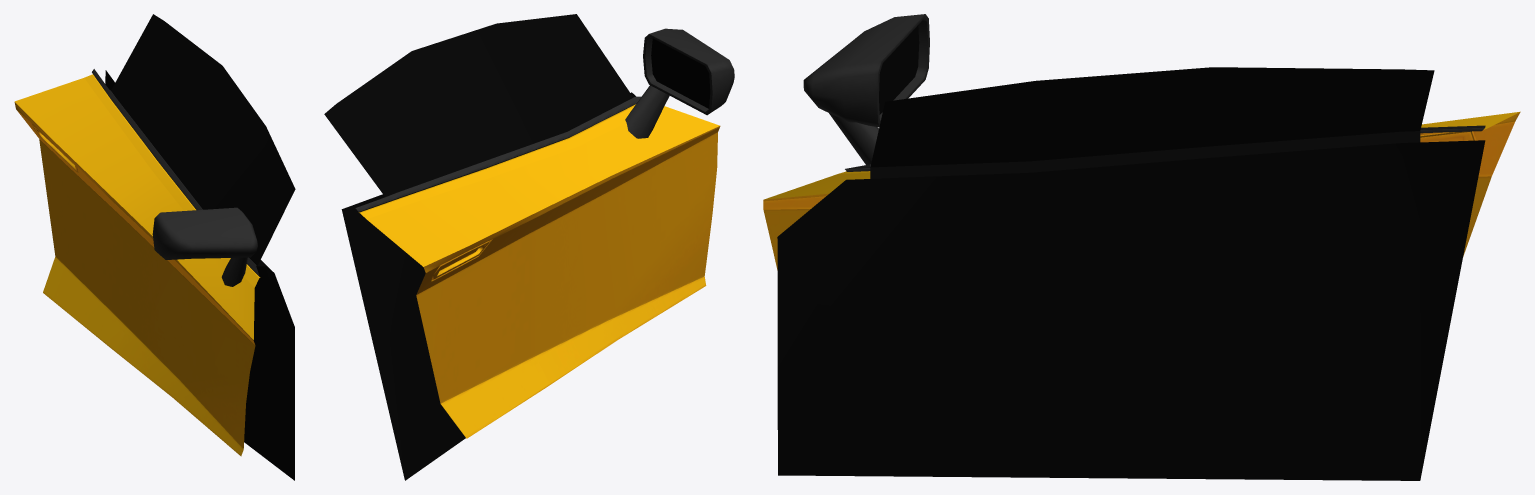
File: Lamborghini_Aventador_Rigth_dor.mtl.obj
3 views of the same model, side by side, from view 1: azimuth 30°, elevation 25°; view 2: azimuth 150°, elevation 25°; view 3: azimuth 270°, elevation 25° (orthographic). The views are drawn at different scales.
Visible parts, largest first — view 1: Lamborghini_Aventador:Body.002_Lamborghini_Aventador:Body.000, Lamborghini_Aventador:Body.003_Lamborghini_Aventador:Body.000; view 2: Lamborghini_Aventador:Body.002_Lamborghini_Aventador:Body.000, Lamborghini_Aventador:Body.003_Lamborghini_Aventador:Body.000; view 3: Lamborghini_Aventador:Body.003_Lamborghini_Aventador:Body.000, Lamborghini_Aventador:Body.002_Lamborghini_Aventador:Body.000.
Part boxes in pixels (x1,y1,x2,y2): Lamborghini_Aventador:Body.002_Lamborghini_Aventador:Body.000: (14, 14, 295, 456); Lamborghini_Aventador:Body.003_Lamborghini_Aventador:Body.000: (105, 70, 294, 480); Lamborghini_Aventador:Body.002_Lamborghini_Aventador:Body.000: (324, 14, 734, 438); Lamborghini_Aventador:Body.003_Lamborghini_Aventador:Body.000: (341, 92, 635, 480); Lamborghini_Aventador:Body.003_Lamborghini_Aventador:Body.000: (777, 140, 1485, 480); Lamborghini_Aventador:Body.002_Lamborghini_Aventador:Body.000: (763, 14, 1520, 270).
Size of the model in its own units: 0.5714 by 0.9675 by 1.44.
Materials: 2 (1 with a texture image).
